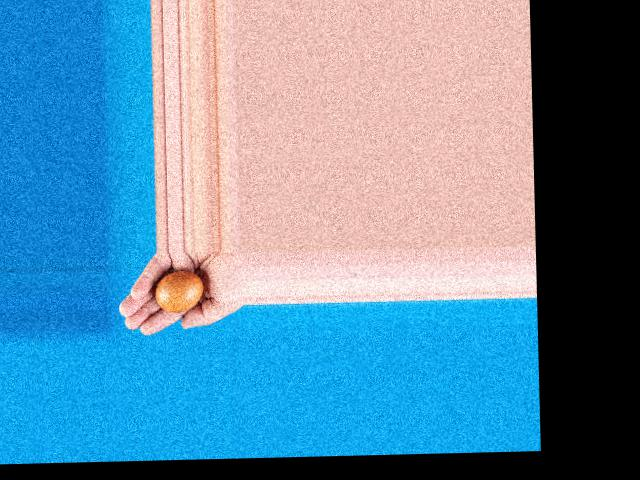egg: (153, 271, 203, 312)
